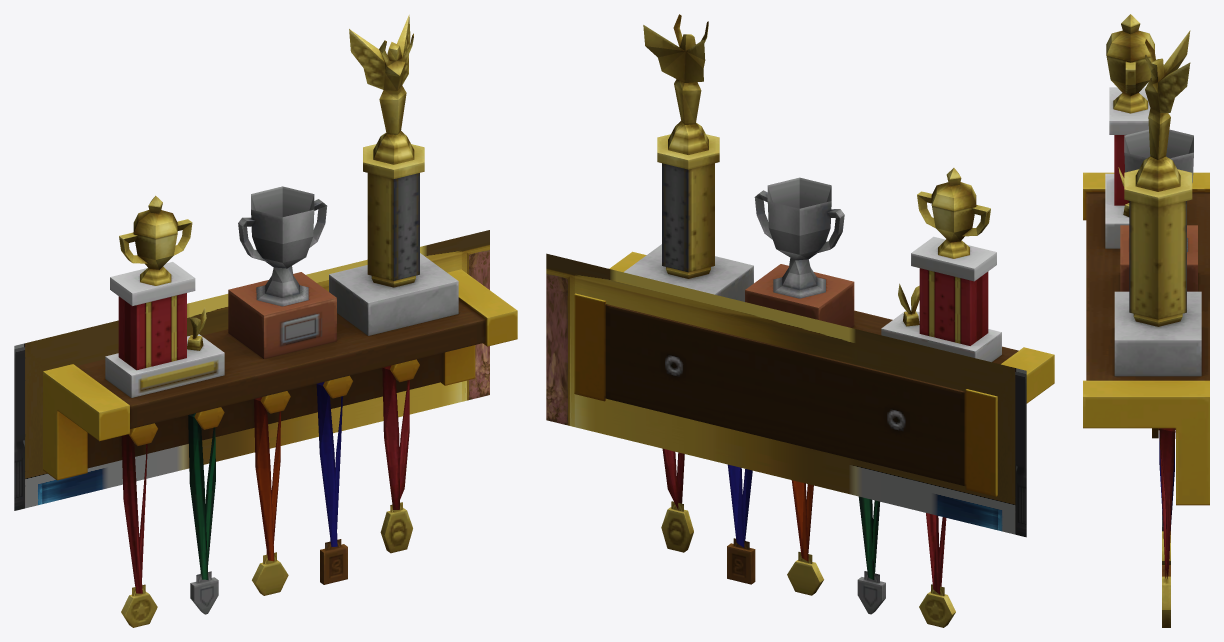
The model's file is estantePremios.obj.
3 renders of one model, left to right at view 1: azimuth 30°, elevation 25°; view 2: azimuth 150°, elevation 25°; view 3: azimuth 270°, elevation 25°, orthographic. The views are drawn at different scales.
Visible parts, largest first — view 1: s4studio_mesh_1, s4studio_mesh_0; view 2: s4studio_mesh_1, s4studio_mesh_0; view 3: s4studio_mesh_1.
Part boxes in pixels (x1,y1,x2,y2): s4studio_mesh_1: [43, 14, 517, 627]; s4studio_mesh_0: [14, 230, 489, 510]; s4studio_mesh_1: [574, 14, 1054, 627]; s4studio_mesh_0: [546, 253, 1026, 537]; s4studio_mesh_1: [1083, 14, 1209, 627].
Size of the model in its own units: 1.24 by 1.35 by 0.2618.
